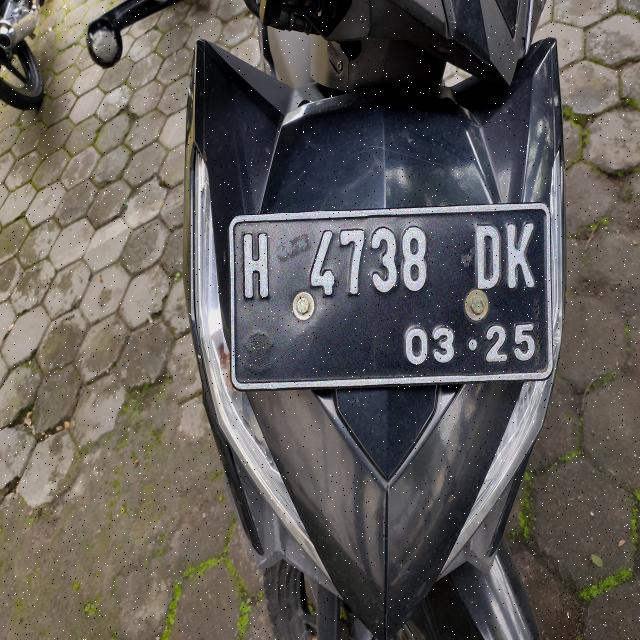plate: (230, 204, 551, 388)
